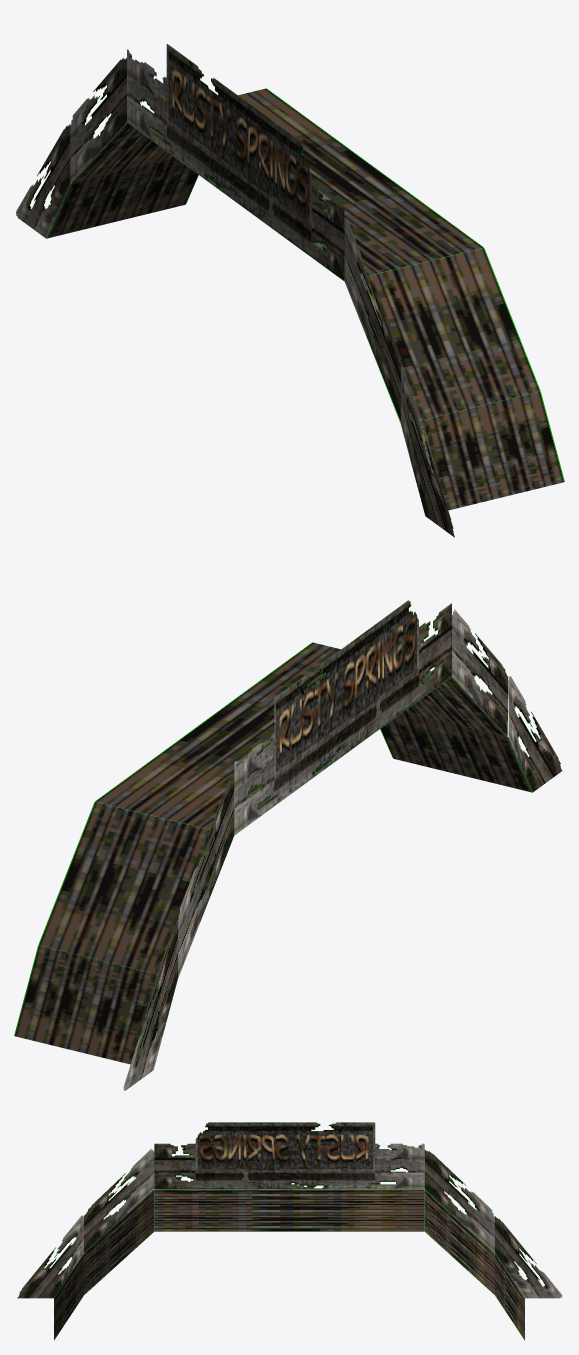
The model's file is _OVRHG.obj.
3 renders of one model, top to bottom at view 1: azimuth 30°, elevation 25°; view 2: azimuth 150°, elevation 25°; view 3: azimuth 270°, elevation 25°, orthographic. The views are drawn at different scales.
Size of the model in its own units: 150 by 291 by 825.
Materials: 1 (1 with a texture image).
